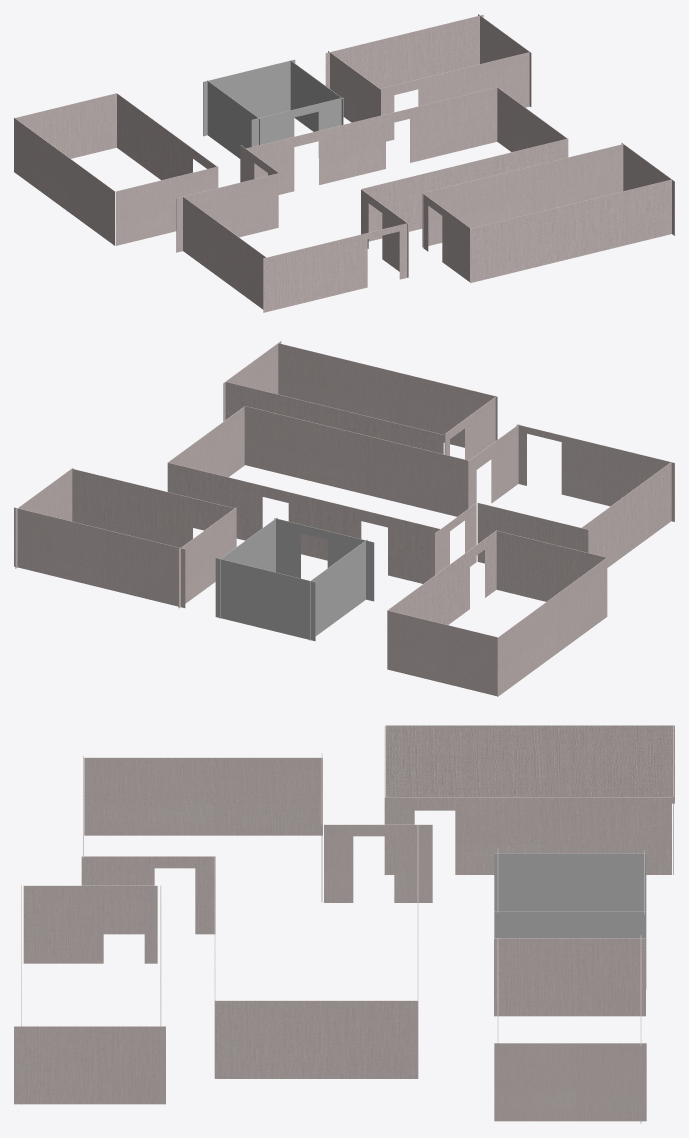
File: wall2.fbx
3 renders of one model, top to bottom at view 1: azimuth 30°, elevation 25°; view 2: azimuth 150°, elevation 25°; view 3: azimuth 270°, elevation 25°, orthographic. The views are drawn at different scales.
Visible parts, largest first — view 1: wall.034, wall.001, wall.011, wall.031, wall.024, wall.019, wall.035, wall.007, wall.027, wall.022, wall.002, wall.020 (+12 smaller); view 2: wall.035, wall.034, wall.001, wall.024, wall.027, wall.019, wall.020, wall.030, wall.031, wall.022, wall.007, wall.011 (+12 smaller); view 3: wall.019, wall.007, wall.003, wall.018, wall.005, wall.008, wall.012, wall.017, wall.026, wall.029, wall, wall.016.
Boxes of the visible parts, x1,y1,x2,y2 form: wall.034: (470, 179, 671, 283); wall.001: (246, 87, 497, 194); wall.011: (422, 144, 623, 247); wall.031: (263, 223, 408, 312); wall.024: (325, 14, 483, 88); wall.019: (14, 117, 115, 245); wall.035: (362, 138, 568, 241); wall.007: (183, 196, 265, 309); wall.027: (380, 52, 529, 141); wall.022: (116, 166, 218, 245); wall.002: (176, 173, 278, 252); wall.020: (15, 93, 116, 158); wall.035: (244, 406, 468, 516); wall.034: (278, 343, 497, 447); wall.001: (167, 462, 440, 583); wall.024: (14, 507, 185, 607); wall.027: (72, 469, 234, 547); wall.019: (497, 558, 607, 696); wall.020: (387, 610, 497, 695); wall.030: (215, 558, 315, 641); wall.031: (516, 424, 674, 521); wall.022: (495, 530, 606, 601); wall.007: (580, 462, 671, 567); wall.011: (225, 381, 443, 454); wall.019: (385, 725, 674, 803); wall.007: (84, 757, 322, 835); wall.003: (215, 1000, 417, 1078); wall.018: (385, 797, 671, 874); wall.005: (494, 1043, 646, 1121); wall.008: (494, 938, 645, 1016); wall.012: (14, 1026, 165, 1104); wall.017: (494, 853, 646, 911); wall.026: (23, 885, 157, 963); wall.029: (324, 824, 432, 902); wall: (81, 856, 215, 934); wall.016: (494, 911, 646, 989).
Size of the model in its own units: 3322 by 2898 by 382.
